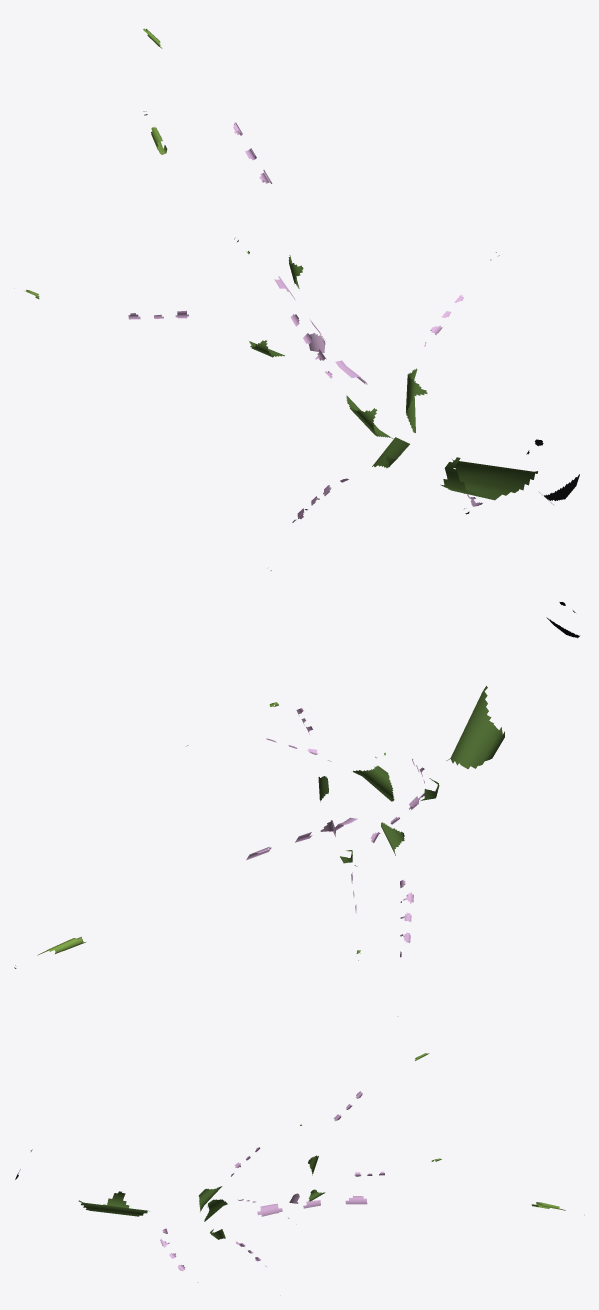
File: Branch_3a.gltf
3 renders of one model, top to bottom at view 1: azimuth 30°, elevation 25°; view 2: azimuth 150°, elevation 25°; view 3: azimuth 270°, elevation 25°, orthographic. The views are drawn at different scales.
Parts seen in each view (by area): view 1: Branch_3a; view 2: Branch_3a; view 3: Branch_3a.
Boxes of the visible parts, <box> form: Branch_3a: <box>25,28,579,570</box>; Branch_3a: <box>14,602,580,968</box>; Branch_3a: <box>15,1053,565,1271</box>.
Size of the model in its own units: 70.22 by 86.81 by 180.
1 material, 1 textured.
